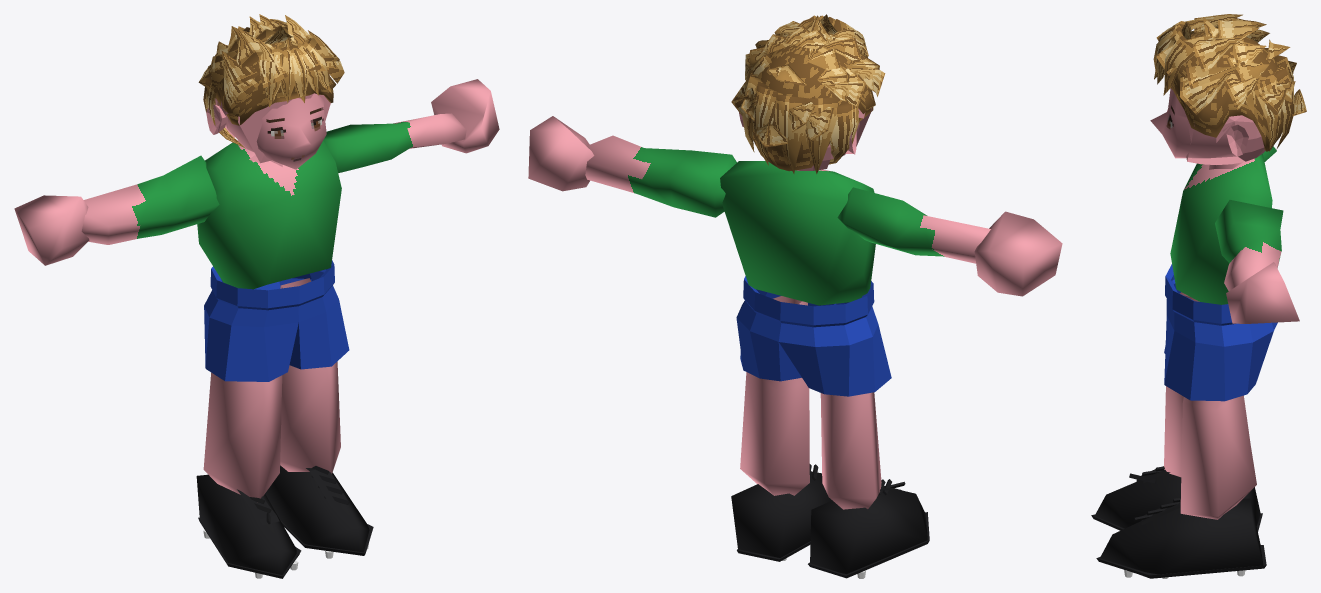
The model's file is 06-espetado-gel_loiro-natural.glb.
The picture shows the model from 3 angles, left to right: view 1: azimuth 30°, elevation 25°; view 2: azimuth 150°, elevation 25°; view 3: azimuth 270°, elevation 25°; orthographic projection. The views are drawn at different scales.
Parts seen in each view (by area): view 1: Camisa_Tronco, Bermuda, Cabelo, Perna.R, Braco.R, Perna.L, Chuteira.R, Chuteira.L, Braco.L, Mao.R, Cabeca, Mao.L (+3 smaller); view 2: Camisa_Tronco, Cabelo, Bermuda, Perna.L, Braco.L, Chuteira.R, Perna.R, Braco.R, Mao.R, Chuteira.L, Mao.L, Chuteira_Sola.R; view 3: Cabelo, Bermuda, Chuteira.L, Camisa_Tronco, Perna.L, Braco.L, Mao.L, Chuteira.R, Cabeca, Perna.R, Cranio, Chuteira_Sola.L (+3 smaller).
Boxes of the visible parts, bbox=[...] form: Camisa_Tronco: bbox=[197, 140, 341, 289]; Bermuda: bbox=[204, 260, 349, 381]; Cabelo: bbox=[198, 14, 344, 148]; Perna.R: bbox=[203, 372, 282, 502]; Braco.R: bbox=[81, 155, 219, 244]; Perna.L: bbox=[280, 278, 340, 473]; Chuteira.R: bbox=[196, 474, 299, 575]; Chuteira.L: bbox=[265, 465, 369, 552]; Braco.L: bbox=[323, 113, 466, 172]; Mao.R: bbox=[14, 195, 89, 265]; Cabeca: bbox=[218, 93, 326, 169]; Mao.L: bbox=[431, 79, 499, 153]; Camisa_Tronco: bbox=[720, 161, 875, 305]; Cabelo: bbox=[731, 14, 885, 173]; Bermuda: bbox=[736, 276, 891, 396]; Perna.L: bbox=[740, 296, 809, 495]; Braco.L: bbox=[585, 135, 736, 217]; Chuteira.R: bbox=[810, 486, 927, 574]; Perna.R: bbox=[820, 392, 881, 509]; Braco.R: bbox=[837, 187, 990, 263]; Mao.R: bbox=[974, 211, 1062, 296]; Chuteira.L: bbox=[731, 471, 832, 557]; Mao.L: bbox=[528, 116, 594, 191]; Chuteira_Sola.R: bbox=[808, 512, 929, 578]; Cabelo: bbox=[1153, 14, 1306, 151]; Bermuda: bbox=[1164, 264, 1277, 401]; Chuteira.L: bbox=[1100, 498, 1263, 578]; Camisa_Tronco: bbox=[1170, 154, 1272, 304]; Perna.L: bbox=[1180, 396, 1256, 519]; Braco.L: bbox=[1215, 200, 1283, 290]; Mao.L: bbox=[1226, 262, 1299, 323]; Chuteira.R: bbox=[1094, 470, 1260, 528]; Cabeca: bbox=[1150, 88, 1236, 158]; Perna.R: bbox=[1164, 292, 1249, 477]; Cranio: bbox=[1186, 115, 1265, 164]; Chuteira_Sola.L: bbox=[1096, 545, 1266, 578].
Size of the model in its own units: 0.4523 by 0.4575 by 0.167.
Materials: 3 (3 with a texture image).
